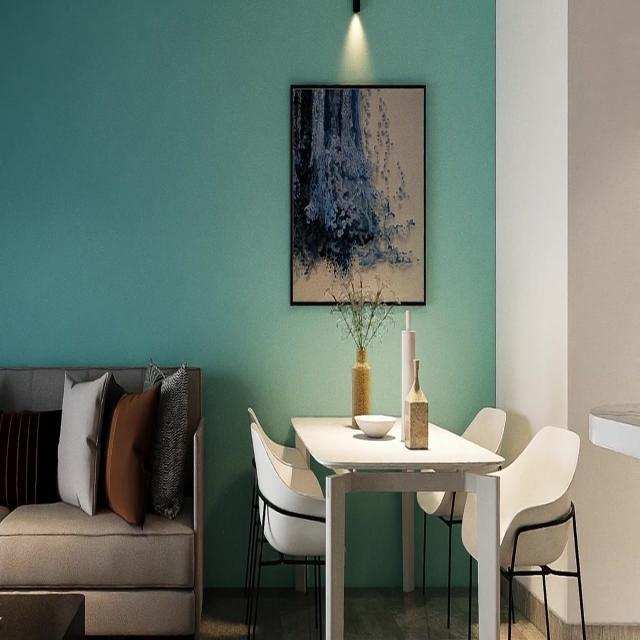obstacle: (0, 362, 206, 637), (290, 412, 506, 638), (461, 425, 587, 639), (416, 406, 507, 628), (248, 421, 326, 638)
